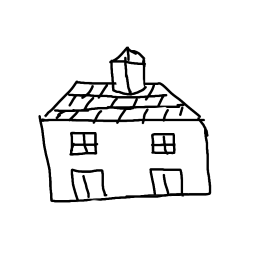chimney: (101, 45, 151, 94)
closed_window: (148, 131, 185, 157), (65, 130, 100, 155)
door: (62, 164, 120, 207), (144, 164, 190, 203)
roof: (35, 77, 209, 125)
wall: (36, 115, 215, 205)
